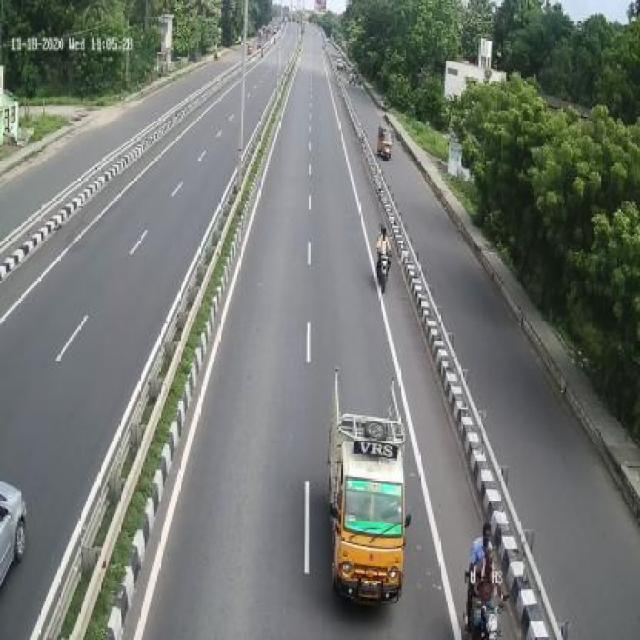car: (324, 371, 410, 594)
